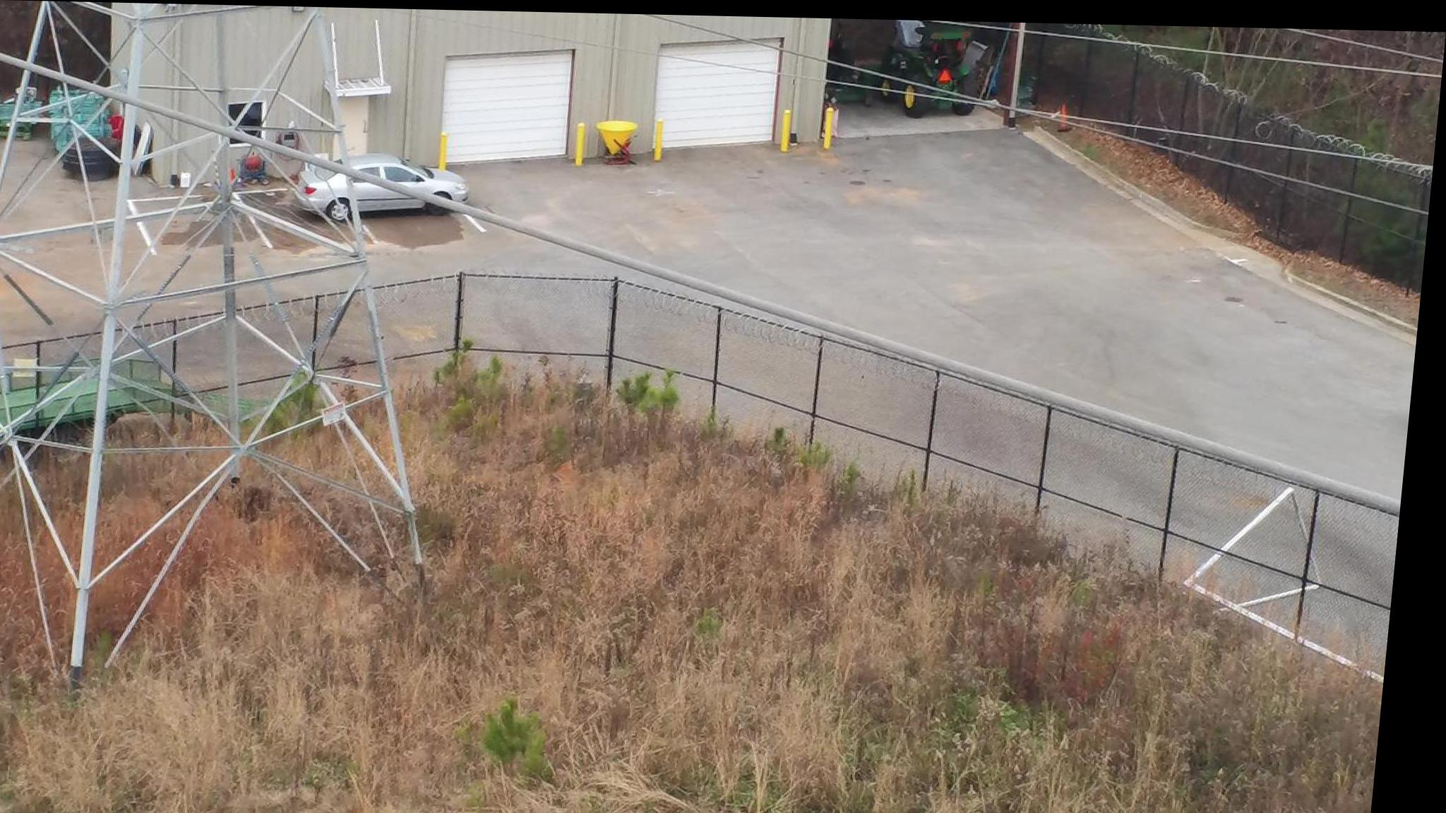tower: (0, 0, 499, 684)
